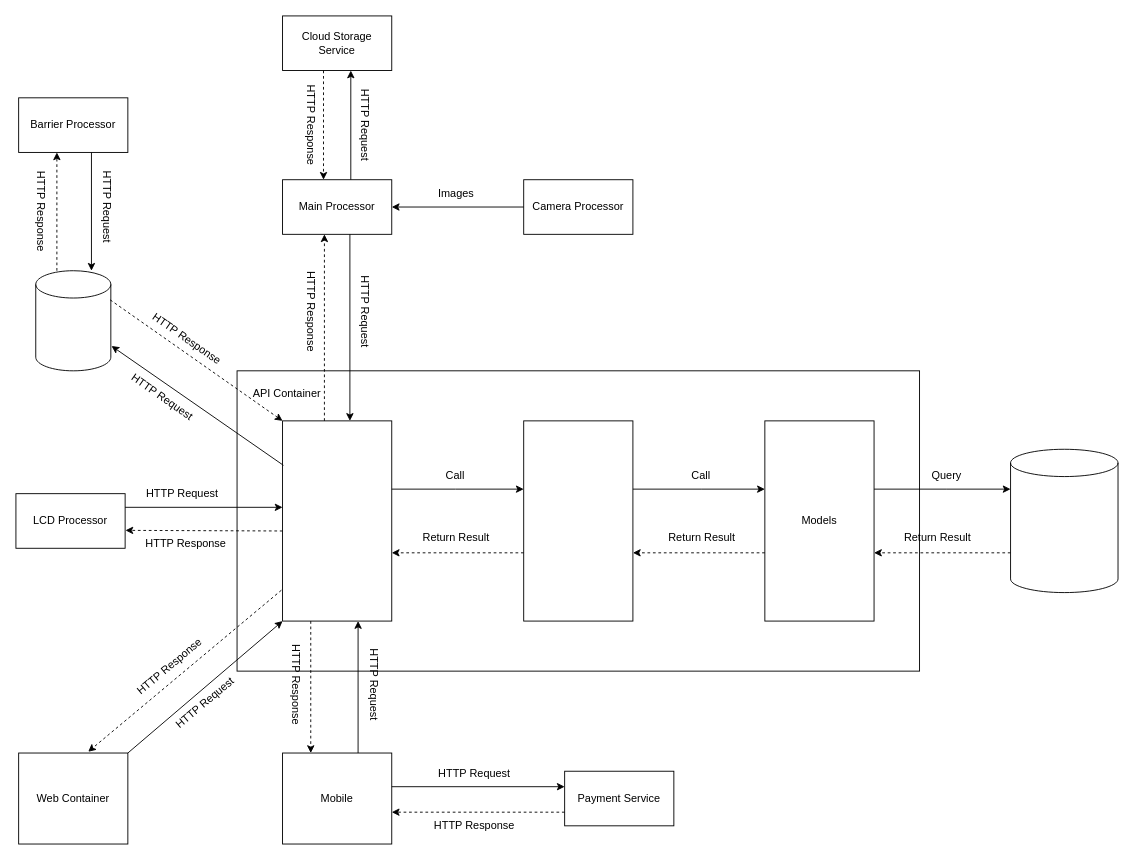
This 1135x860 diagram has some shape labels left out. Here are the shapes that lost their labels. From the top down, the centre of each, then its label:
the point at 73,320: Real-time Database
the point at 337,520: API (REST Controller)
the point at 578,520: Repository
the point at 1064,520: Database
